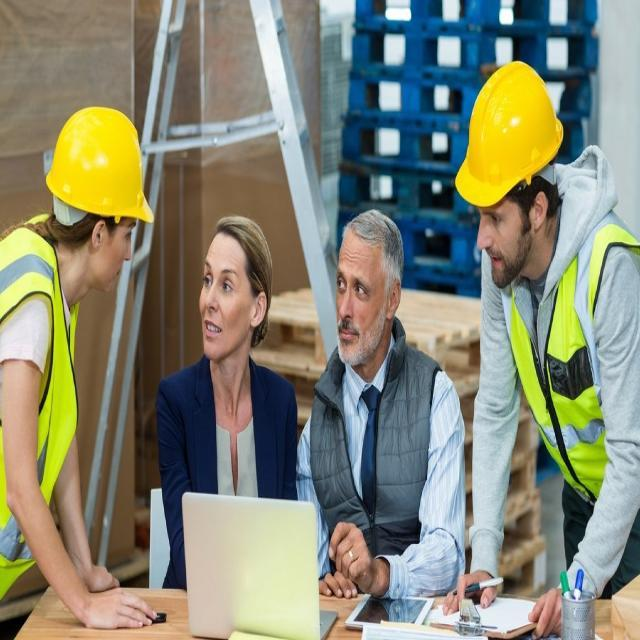bare_hand: (327, 514, 379, 597), (81, 589, 162, 637), (524, 580, 583, 640), (442, 566, 498, 616), (75, 557, 126, 595), (318, 568, 359, 612)
